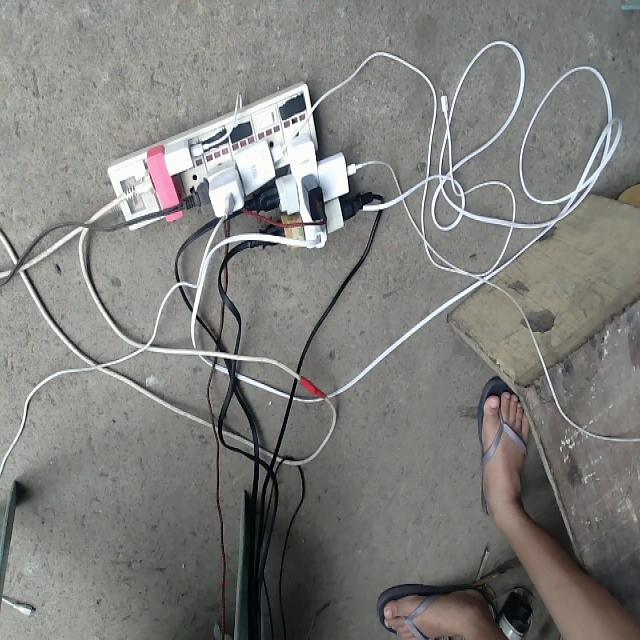-: (105, 81, 366, 251)
